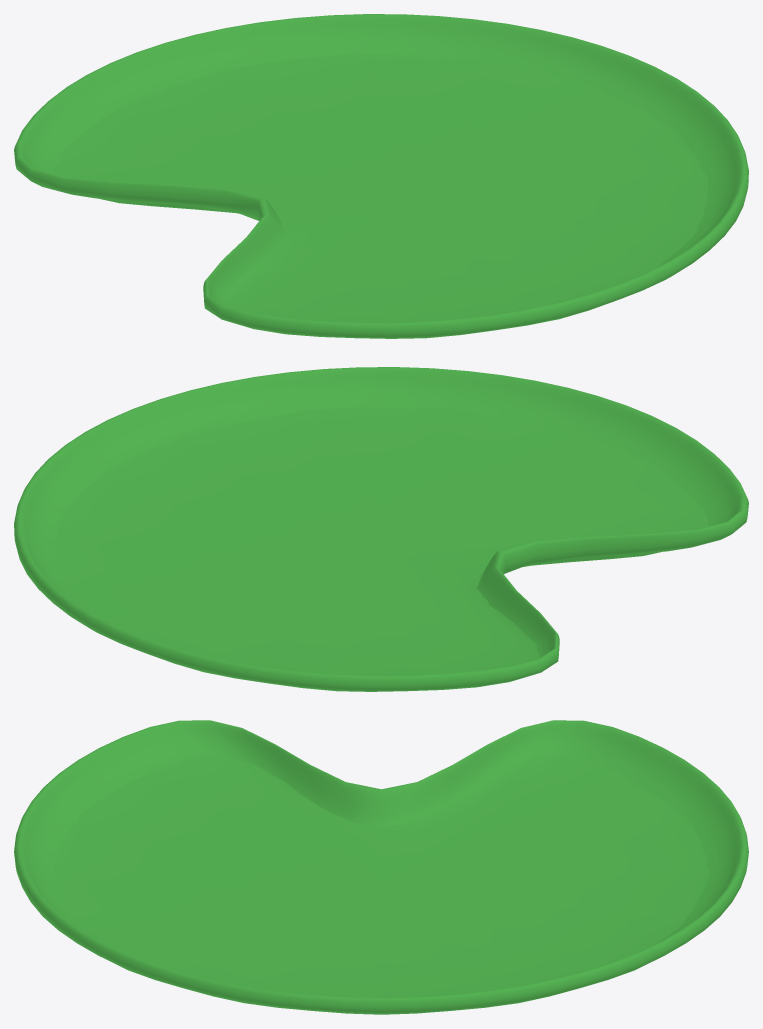
The picture shows the model from 3 angles, top to bottom: view 1: azimuth 30°, elevation 25°; view 2: azimuth 150°, elevation 25°; view 3: azimuth 270°, elevation 25°; orthographic projection.
Visible parts, largest first — view 1: Circle.001; view 2: Circle.001; view 3: Circle.001.
Boxes of the visible parts, box(x1,y1,x2,y2) form: Circle.001: box(14, 14, 748, 338); Circle.001: box(14, 367, 748, 691); Circle.001: box(14, 720, 748, 1014).
Size of what is drawn, in the model's own units: 1.45 by 0.1068 by 1.6.
Materials: 1 (1 with a texture image).
